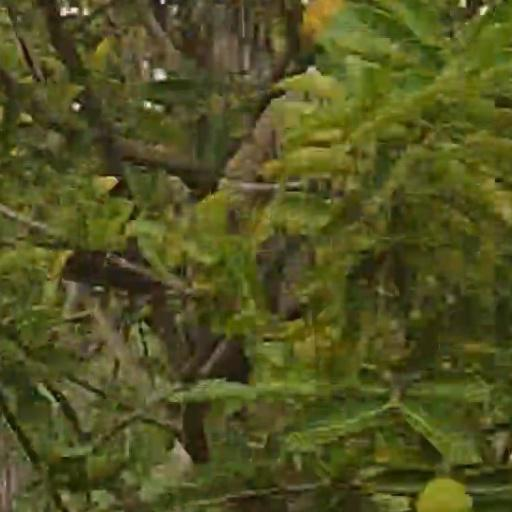acerola_verde: (419, 478, 469, 511)
